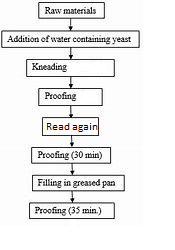arrow: (68, 134, 76, 148), (66, 17, 73, 32), (66, 75, 73, 88), (66, 46, 73, 59), (69, 190, 76, 202), (69, 163, 76, 174), (68, 105, 72, 118)
process: (0, 28, 140, 49), (23, 57, 117, 79), (29, 173, 125, 192), (27, 201, 117, 220), (28, 145, 112, 165), (36, 86, 103, 107), (35, 1, 105, 20), (40, 115, 100, 137)
text: (3, 33, 131, 45), (36, 177, 116, 189), (32, 205, 101, 216), (36, 149, 103, 160), (44, 121, 96, 133), (42, 4, 98, 15), (29, 61, 68, 73), (42, 90, 77, 102)
